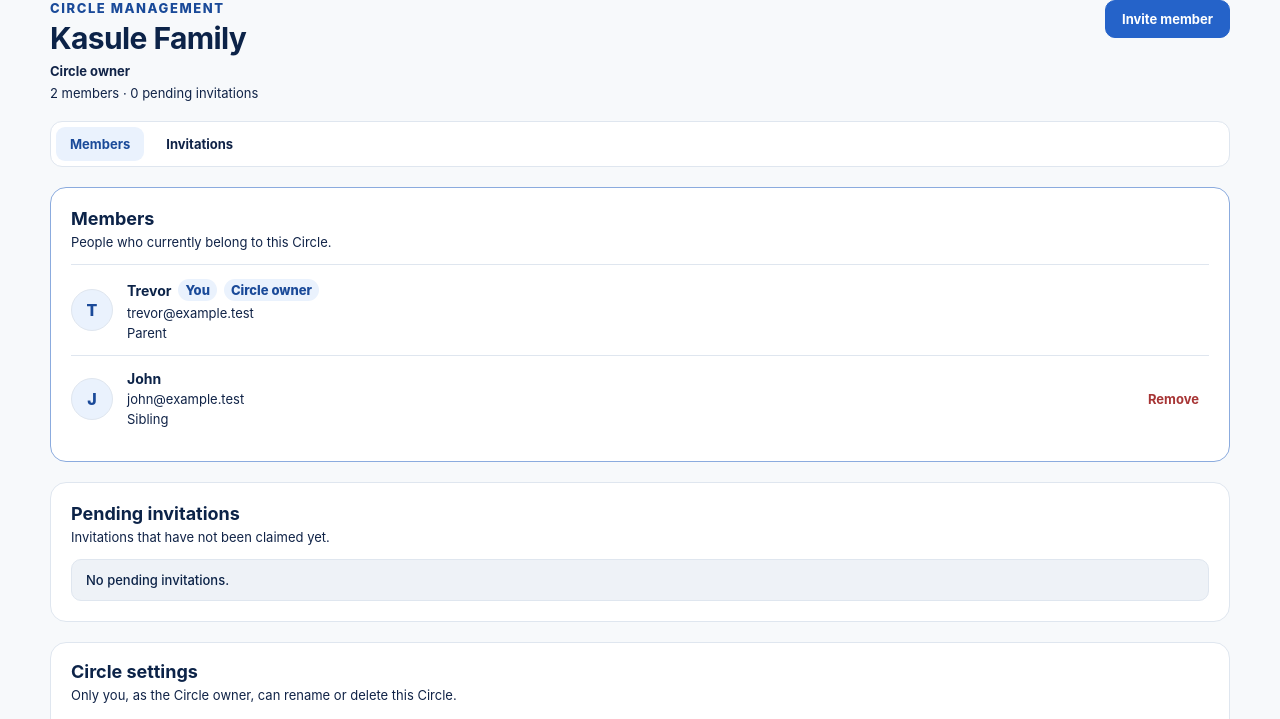
Test: shows a stable stale-Circle message and reloads repaired active details after mutation rejection
Step 1. Click the button with aria-label "Remove John" → {"x": 1174, "y": 398}, box [1138,380,1209,418]
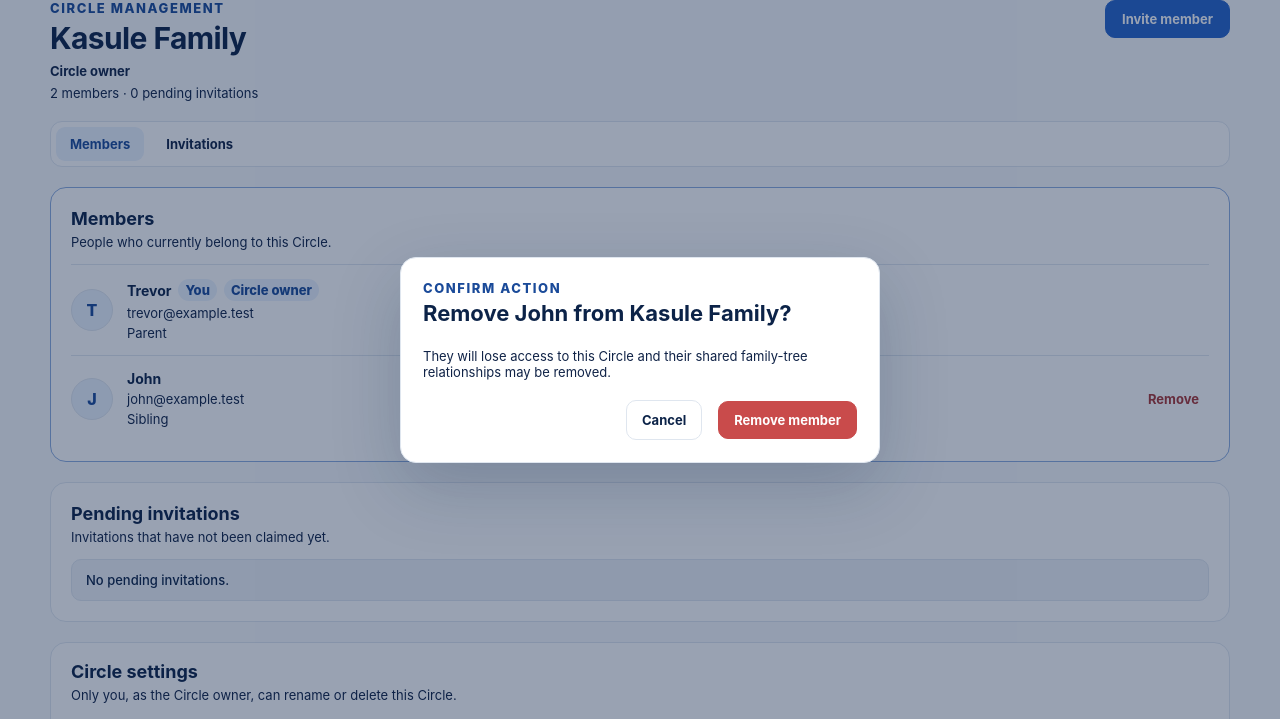
Step 2. Click the button "Remove member" → {"x": 788, "y": 420}, box [718,401,857,439]
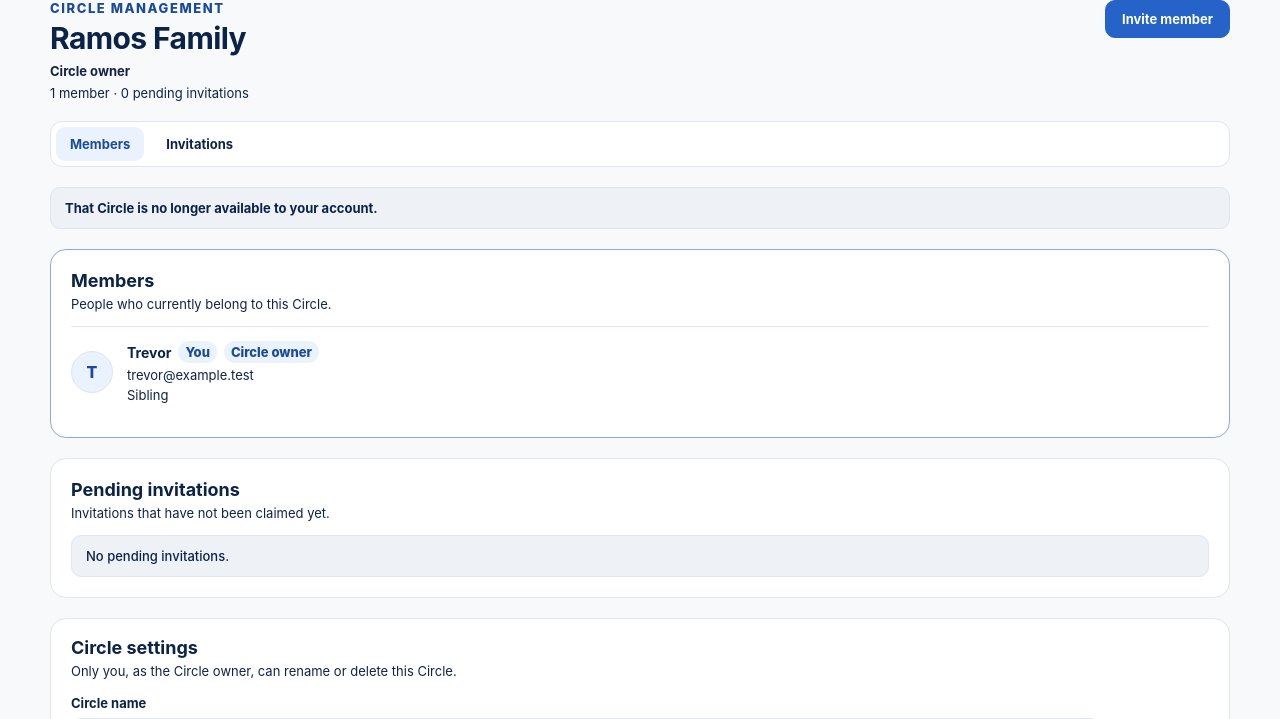
Now the text "That Circle is no longer available to your account." is shown, box [50,187,1230,229]
Now the heading "Ramos Family" is shown, box [50,20,249,56]
